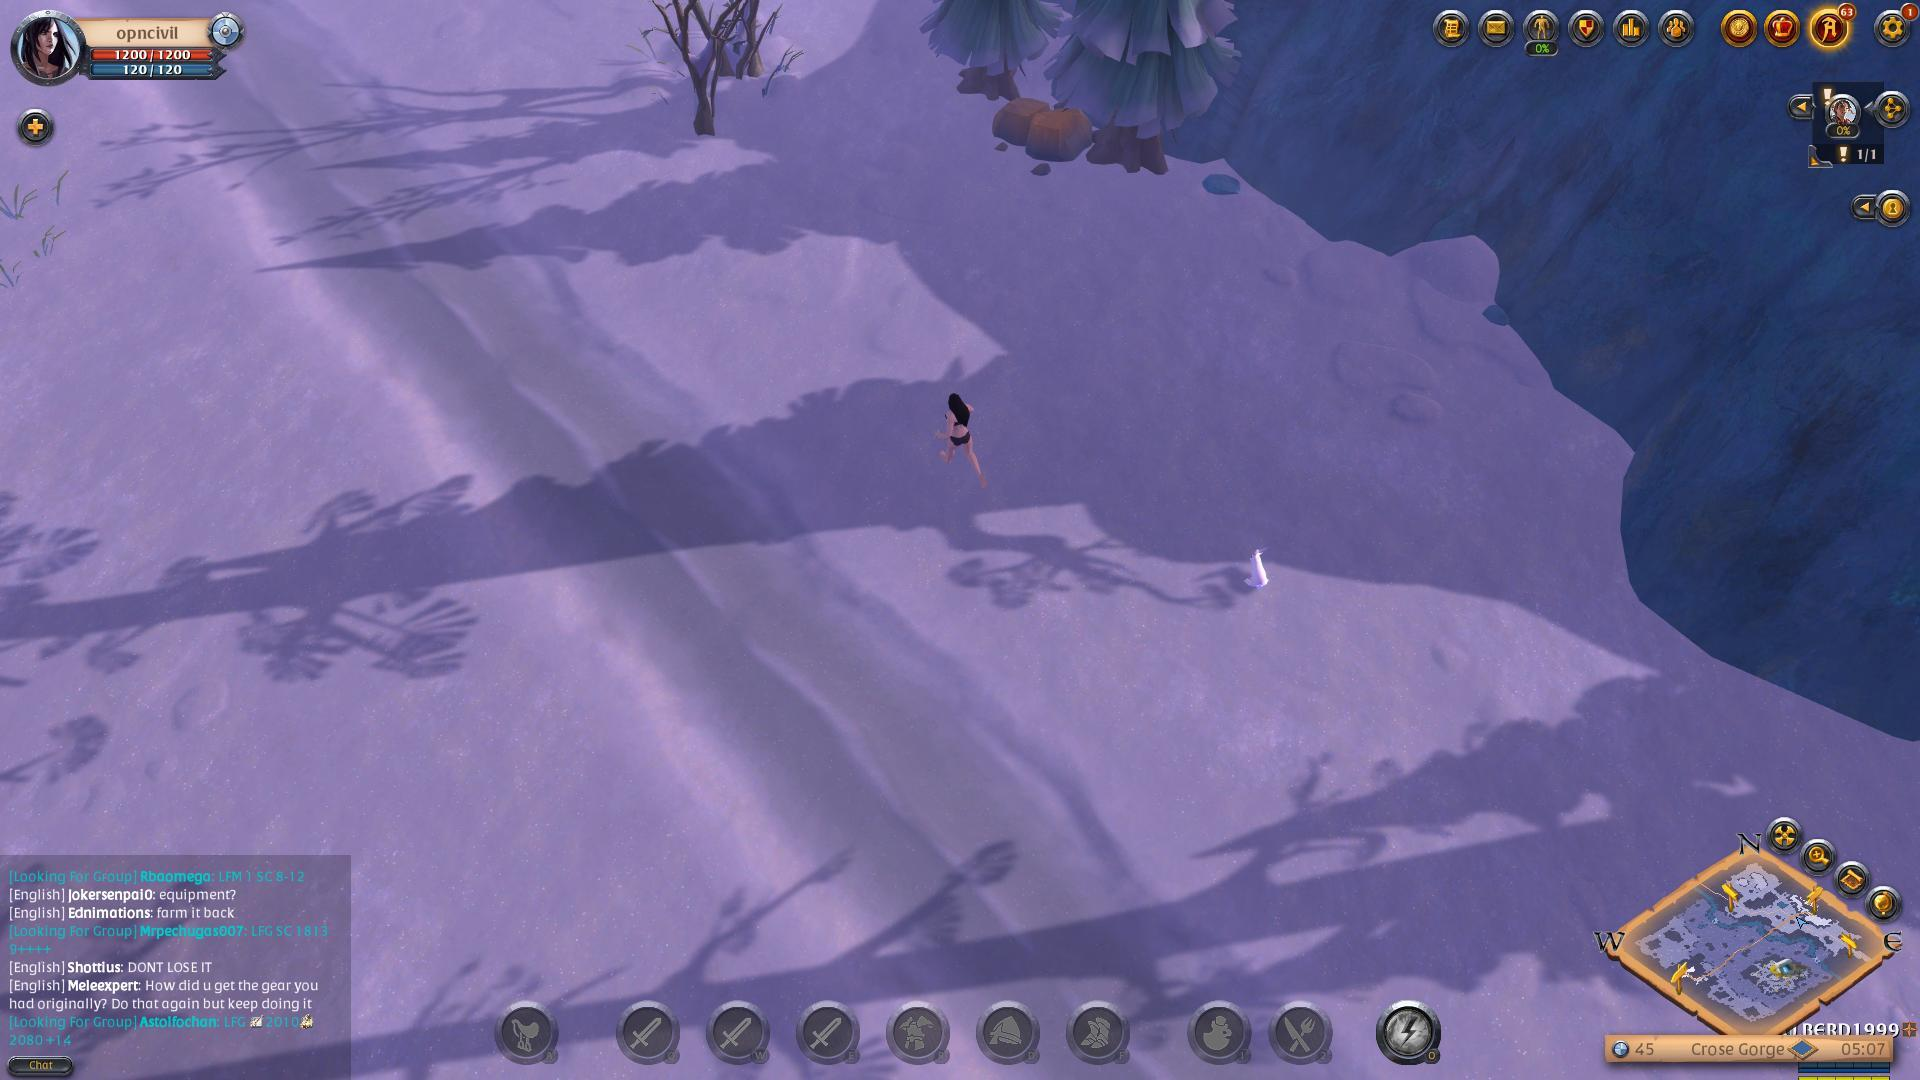limestone: (982, 87, 1100, 185)
